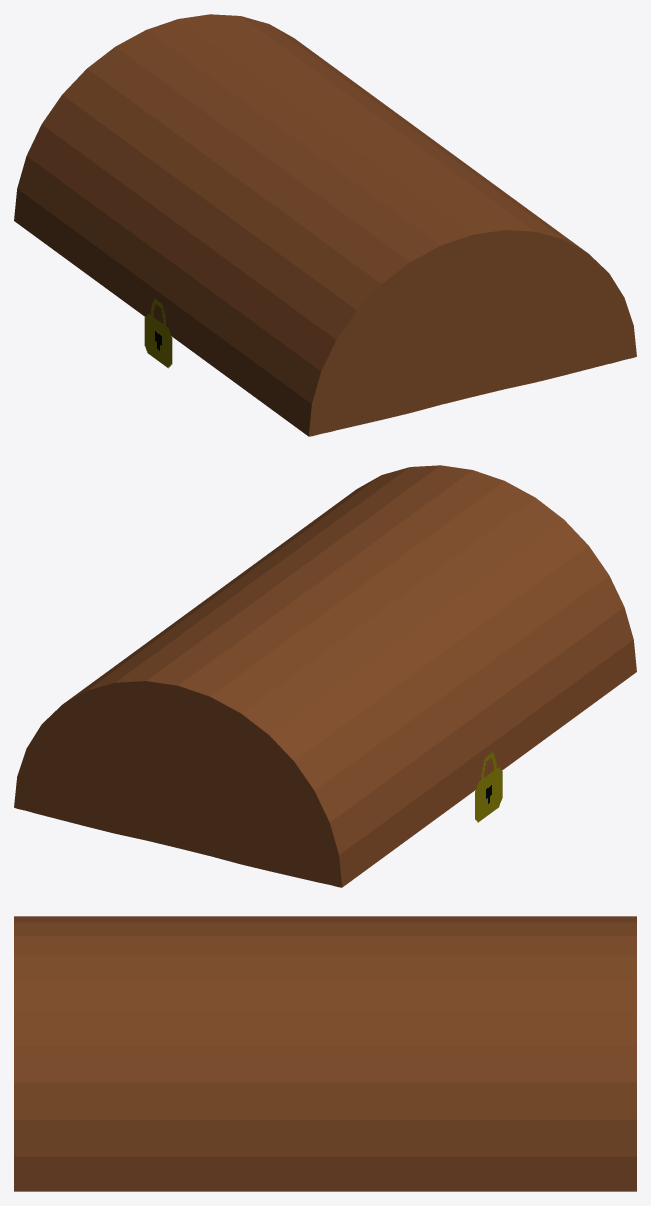
File: ChestLid.fbx
3 views of the same model, one above another, from view 1: azimuth 30°, elevation 25°; view 2: azimuth 150°, elevation 25°; view 3: azimuth 270°, elevation 25° (orthographic). The views are drawn at different scales.
Visible parts, largest first — view 1: Cylinder, Lock; view 2: Cylinder, Lock; view 3: Cylinder.
Part boxes in pixels (x1,y1,x2,y2): Cylinder: [14, 14, 636, 436]; Lock: [144, 298, 172, 368]; Cylinder: [14, 465, 636, 887]; Lock: [475, 752, 502, 822]; Cylinder: [14, 916, 636, 1191].
Size of the model in its own units: 213 by 123 by 330.
Materials: 2 (1 with a texture image).
